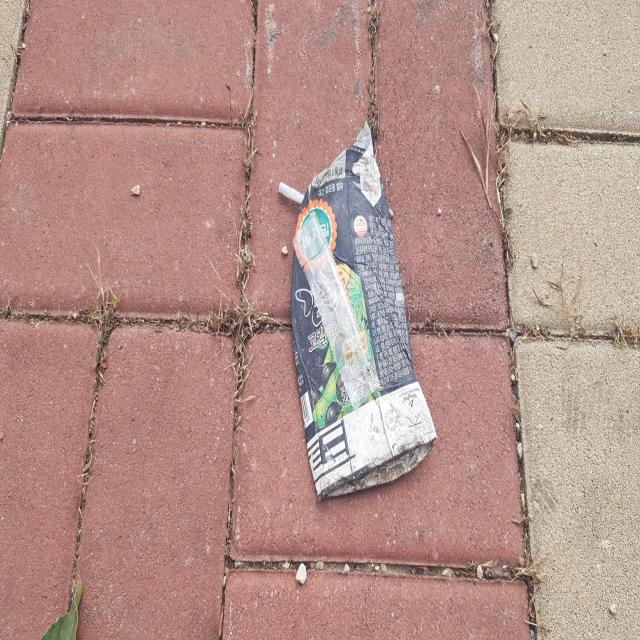paperpack: (291, 121, 437, 499)
